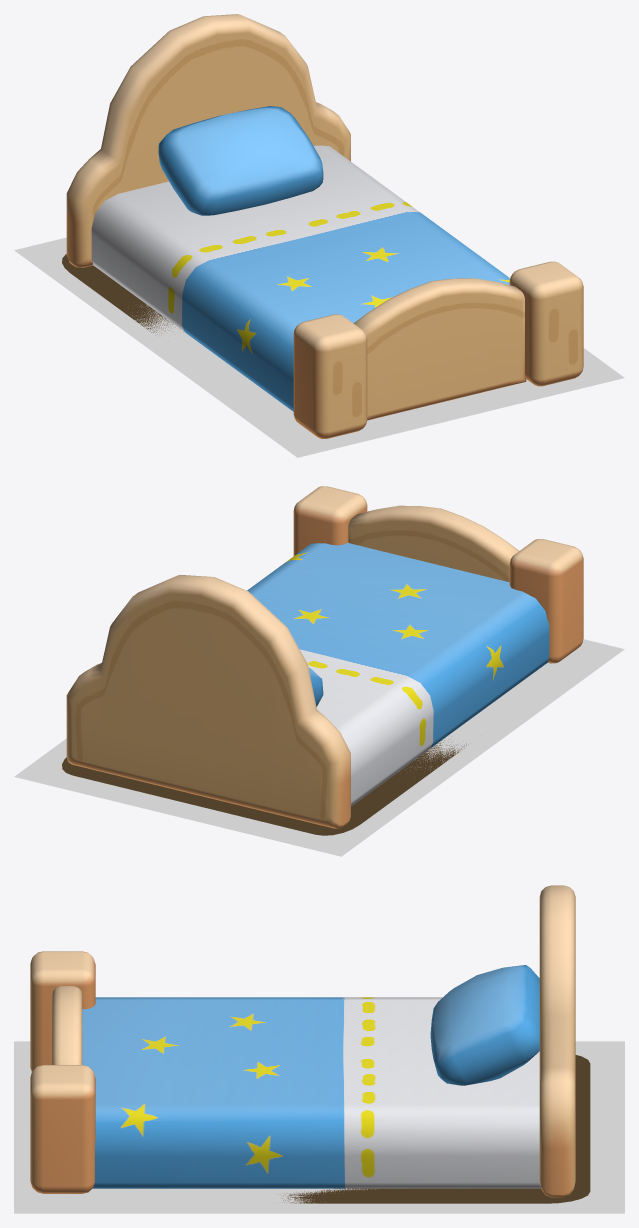
The model's file is Decor_Bed.fbx.
The picture shows the model from 3 angles, top to bottom: view 1: azimuth 30°, elevation 25°; view 2: azimuth 150°, elevation 25°; view 3: azimuth 270°, elevation 25°; orthographic projection. The views are drawn at different scales.
Parts seen in each view (by area): view 1: Bed.001, Bed_Grid_Large, Bed_Grid; view 2: Bed.001, Bed_Grid_Large, Bed_Grid; view 3: Bed.001, Bed_Grid_Large, Bed_Grid.
Boxes of the visible parts, x1,y1,x2,y2 form: Bed.001: (62,14,583,438); Bed_Grid_Large: (14,237,624,457); Bed_Grid: (62,280,293,422); Bed.001: (62,486,583,835); Bed_Grid_Large: (14,639,624,856); Bed_Grid: (61,675,554,821); Bed.001: (30,885,590,1203); Bed_Grid_Large: (14,1041,624,1213); Bed_Grid: (116,1188,465,1213).
Size of the model in its own units: 1 by 0.6252 by 1.5.
